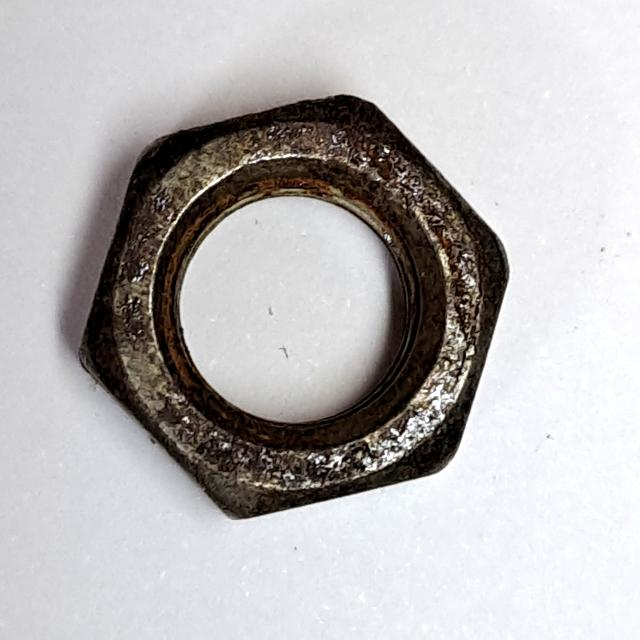Rust: (68, 74, 523, 536)
